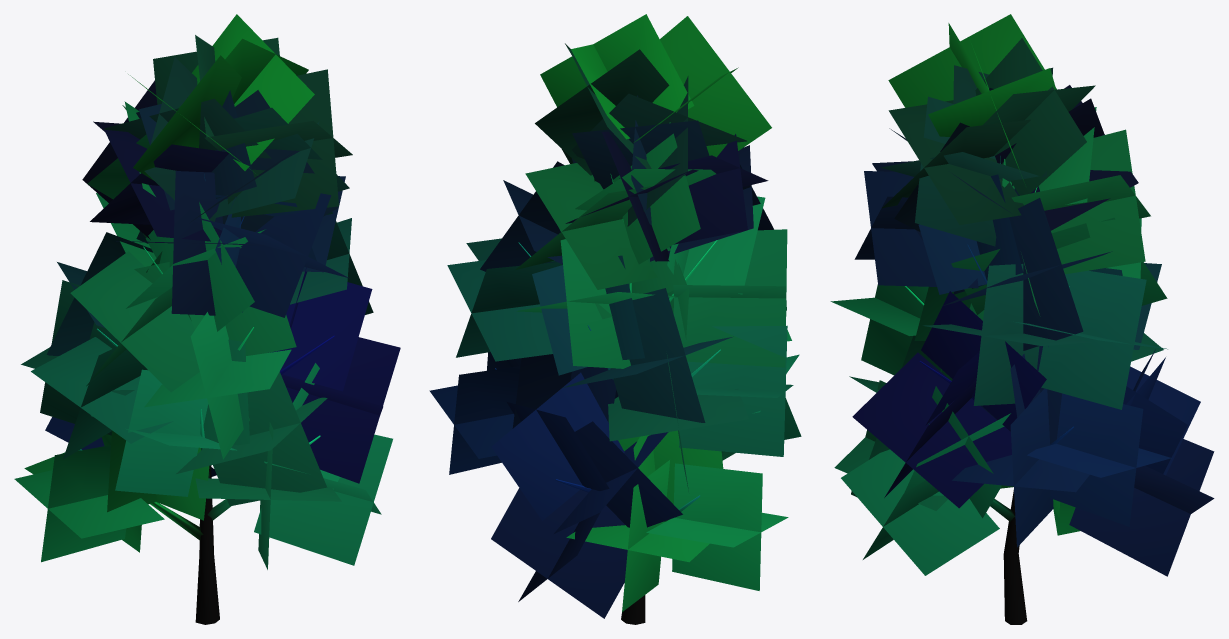
File: tree 1 lod2.FBX
3 views of the same model, side by side, from view 1: azimuth 30°, elevation 25°; view 2: azimuth 150°, elevation 25°; view 3: azimuth 270°, elevation 25° (orthographic).
Visible parts, largest first — view 1: Tree lod2; view 2: Tree lod2; view 3: Tree lod2.
Boxes of the visible parts, x1,y1,x2,y2 form: Tree lod2: [14, 14, 400, 624]; Tree lod2: [429, 14, 801, 624]; Tree lod2: [830, 14, 1214, 624].
Bounding box in the file's own units: 2.74 × 4.7 × 2.78.
